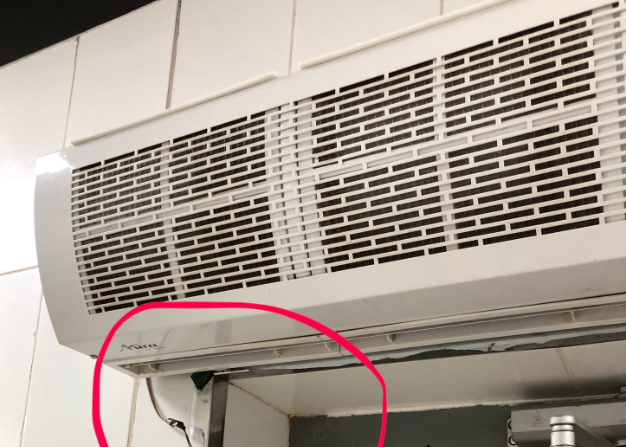Air Curtain: (15, 3, 626, 368)
